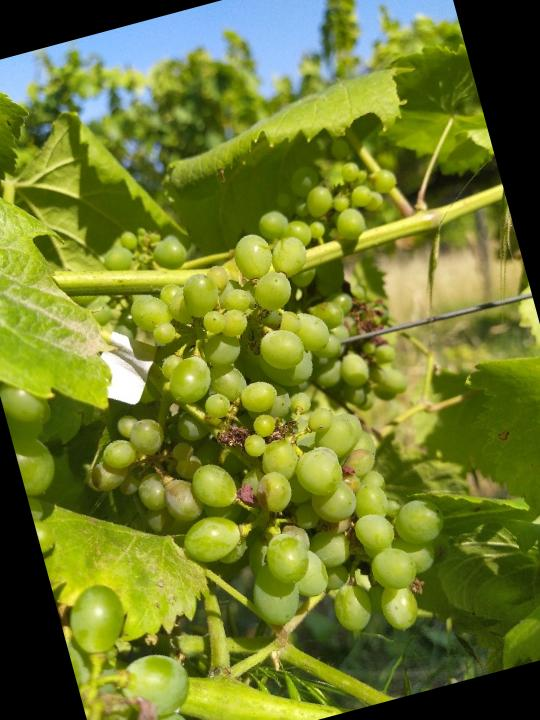grape: (29, 200, 472, 699)
